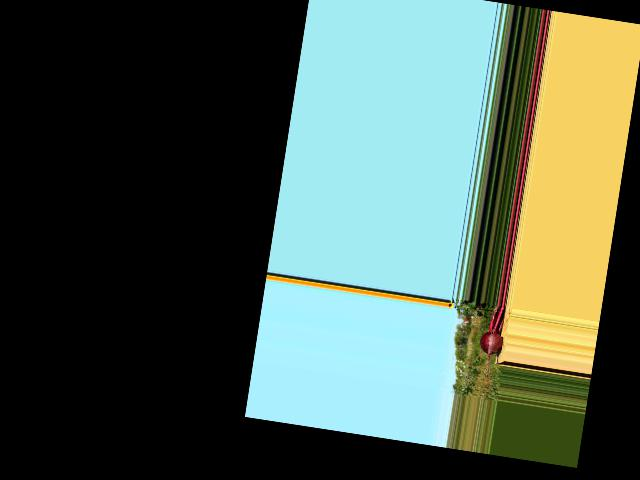beet: (472, 302, 508, 397)
